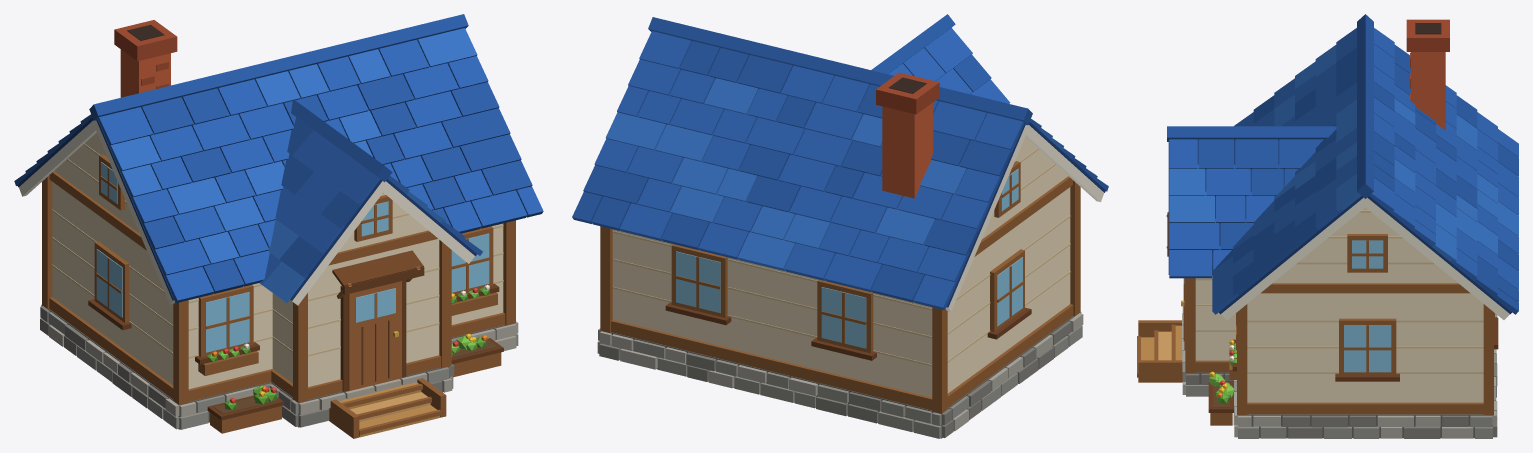
The model's file is house-2.glb.
The picture shows the model from 3 angles, left to right: view 1: azimuth 30°, elevation 25°; view 2: azimuth 150°, elevation 25°; view 3: azimuth 270°, elevation 25°; orthographic projection. The views are drawn at different scales.
Parts seen in each view (by area): view 1: H2_Roof, H2_Walls, H2_Openings, H2_Timber, H2_Foundation, H2_Props, H2_Porch; view 2: H2_Roof, H2_Walls, H2_Foundation, H2_Timber, H2_Openings, H2_Props; view 3: H2_Roof, H2_Walls, H2_Timber, H2_Foundation, H2_Openings, H2_Props, H2_Porch.
Boxes of the visible parts, bbox=[...] form: H2_Roof: bbox=[14, 14, 543, 305]; H2_Walls: bbox=[52, 132, 503, 389]; H2_Openings: bbox=[88, 154, 499, 391]; H2_Timber: bbox=[42, 171, 515, 405]; H2_Foundation: bbox=[40, 304, 518, 429]; H2_Props: bbox=[114, 20, 503, 433]; H2_Porch: bbox=[329, 250, 446, 438]; H2_Roof: bbox=[572, 14, 1108, 311]; H2_Walls: bbox=[612, 137, 1070, 397]; H2_Foundation: bbox=[597, 312, 1083, 438]; H2_Timber: bbox=[600, 176, 1080, 413]; H2_Openings: bbox=[665, 161, 1031, 360]; H2_Props: bbox=[876, 72, 939, 198]; H2_Roof: bbox=[1167, 14, 1518, 319]; H2_Walls: bbox=[1195, 207, 1483, 402]; H2_Timber: bbox=[1185, 278, 1493, 415]; H2_Foundation: bbox=[1182, 306, 1497, 438]; H2_Openings: bbox=[1181, 234, 1498, 381]; H2_Props: bbox=[1208, 19, 1449, 425]; H2_Porch: bbox=[1137, 212, 1182, 382].
Size of the model in its own units: 4.64 by 3.67 by 4.41.
